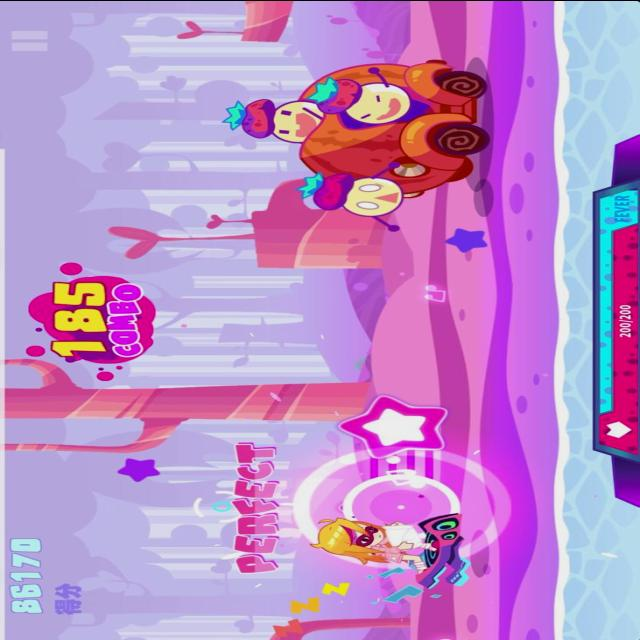cheboss: (217, 56, 496, 200)
hold: (339, 394, 452, 516)
qiu: (293, 160, 411, 232)
